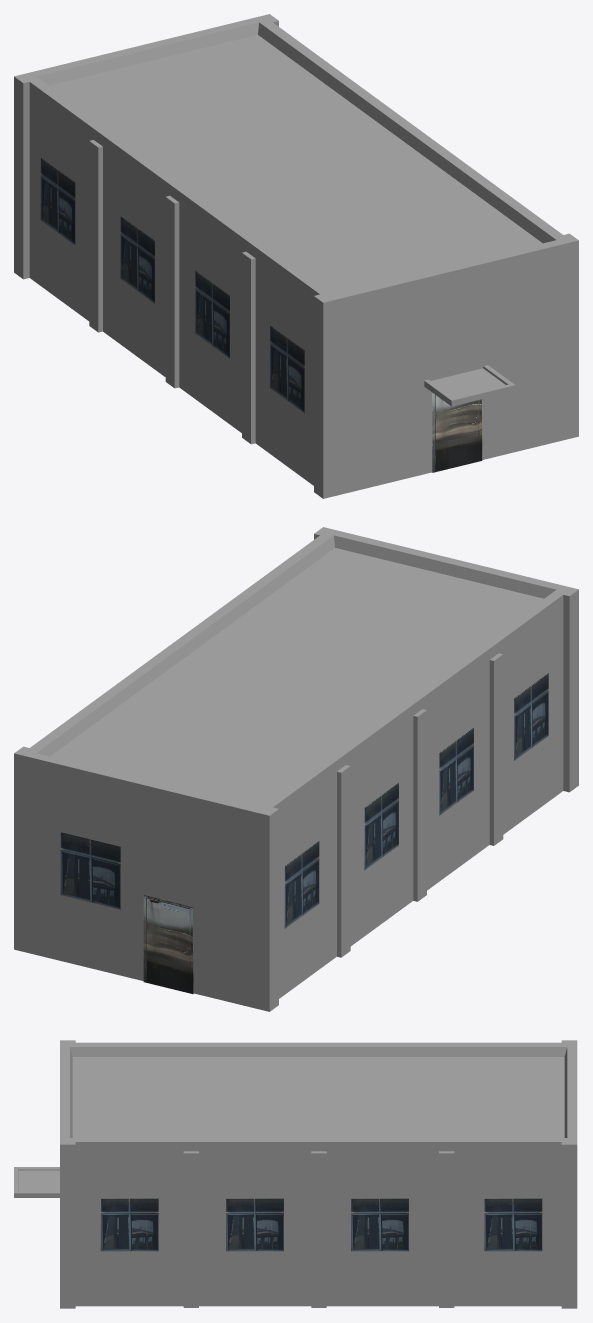
Rendered from TiShengBengFang.fbx.
3 views of the same model, one above another, from view 1: azimuth 30°, elevation 25°; view 2: azimuth 150°, elevation 25°; view 3: azimuth 270°, elevation 25° (orthographic). The views are drawn at different scales.
Visible parts, largest first — view 1: TSBF, Men, Chuang3, Chuang1, Chuang, Chuang2; view 2: TSBF, Men1, Chuang8, Chuang3, Chuang2, Chuang, Chuang1; view 3: TSBF, Chuang4, Chuang7, Chuang5, Chuang6.
Boxes of the visible parts, x1,y1,x2,y2 form: TSBF: [14, 14, 578, 498]; Men: [432, 393, 482, 472]; Chuang3: [40, 157, 75, 244]; Chuang1: [195, 271, 229, 358]; Chuang: [270, 325, 304, 412]; Chuang2: [120, 216, 154, 303]; TSBF: [14, 527, 578, 1011]; Men1: [143, 895, 193, 994]; Chuang8: [60, 832, 120, 909]; Chuang3: [284, 841, 319, 928]; Chuang2: [364, 783, 398, 870]; Chuang: [514, 673, 548, 760]; Chuang1: [439, 728, 473, 815]; TSBF: [14, 1040, 577, 1308]; Chuang4: [100, 1198, 158, 1251]; Chuang7: [484, 1198, 542, 1251]; Chuang5: [226, 1198, 283, 1251]; Chuang6: [351, 1198, 408, 1251].
Size of the model in its own units: 709 by 520 by 1623.
Materials: 7 (1 with a texture image).
